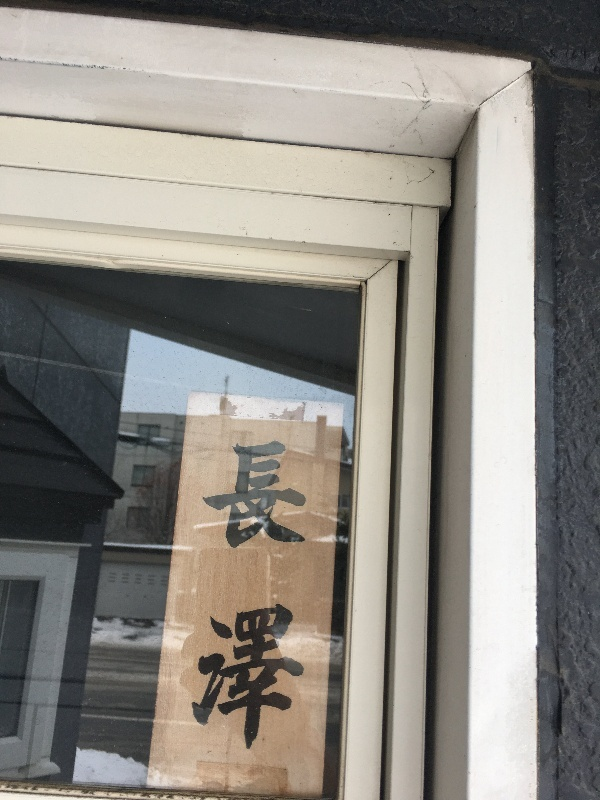text: (209, 436, 224, 754), (225, 436, 240, 754), (241, 436, 256, 754), (257, 436, 272, 754), (273, 436, 288, 754), (289, 436, 304, 754), (305, 436, 314, 754), (205, 436, 208, 754)
